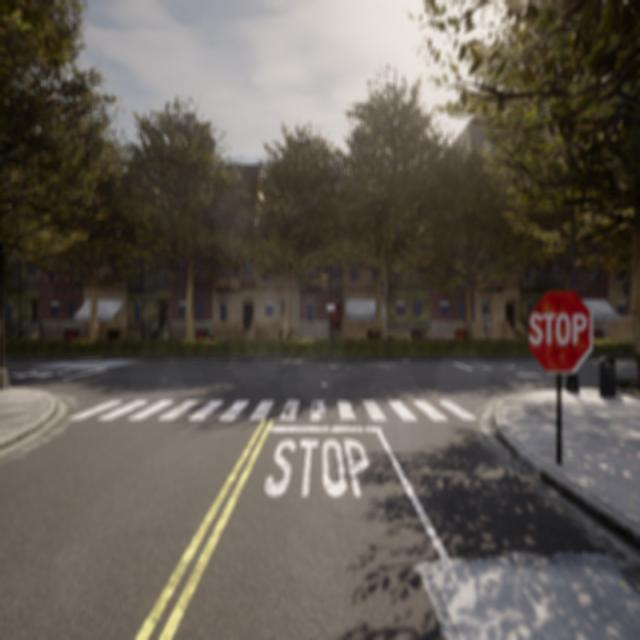stop sign: (524, 285, 595, 376), (528, 309, 588, 348)
